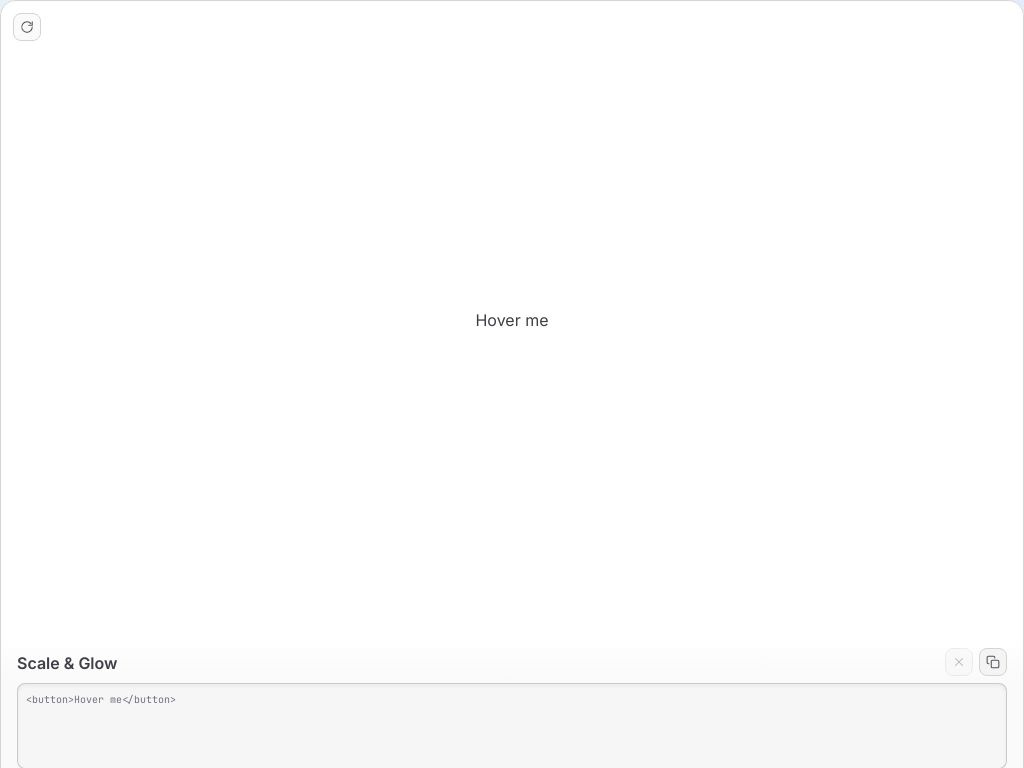
Test: AnimationCard › updates the live preview for tailwind code edits
Check: the button "Hover me" is shown, box [476,308,548,332]
Replace the text in the text box named "Live code editor" with "<button className=\"rounded-xl bg-accent px-6 py-3\">Edited</button>" at (512, 723), box [26,692,998,754]
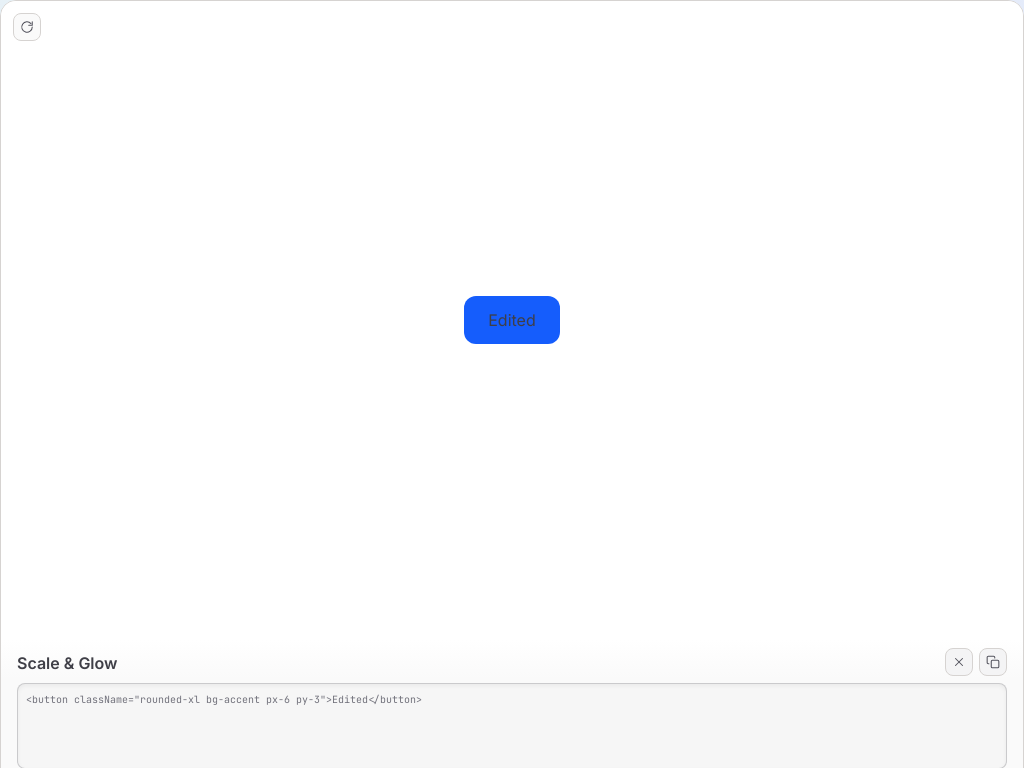
Check: the button "Edited" is shown, box [464,296,560,344]
